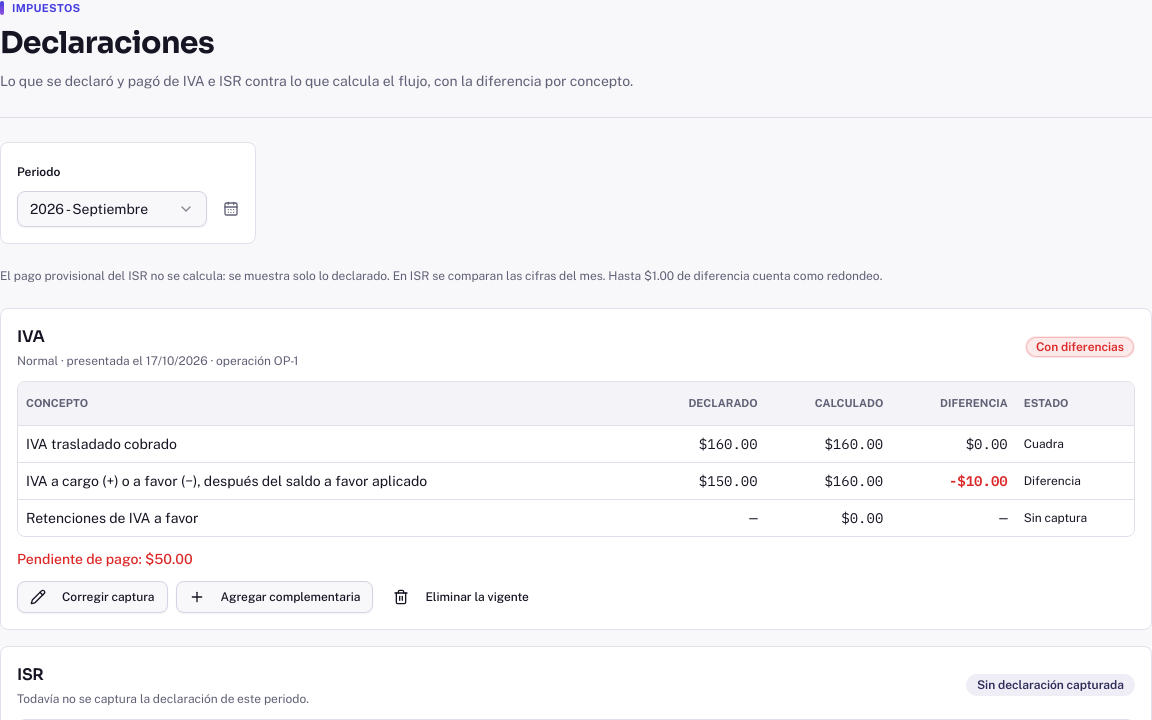
Scenario: DeclaracionesPantalla › bloquea importes inválidos y deja negativo solo el a cargo
The image size is (1152, 720).
Click the button "Corregir captura" at (92,597), box [17,581,168,613]
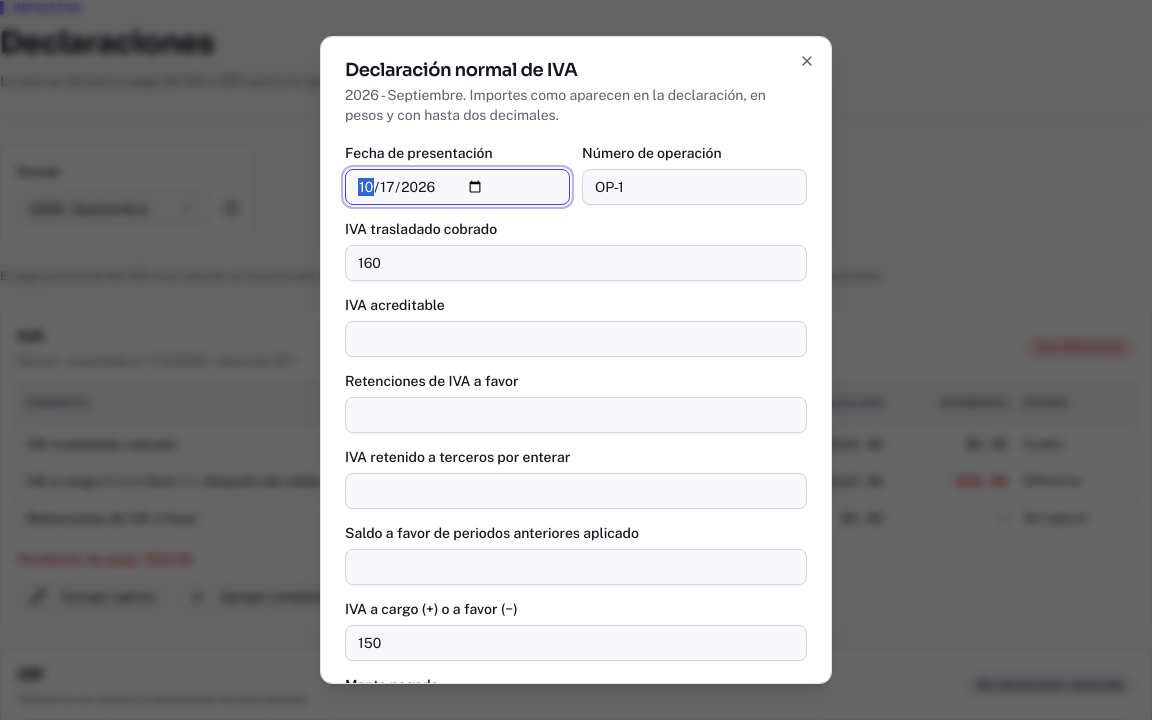
Type "-5" into the field labelled "IVA acreditable" at (576,339), box [345,321,807,357]
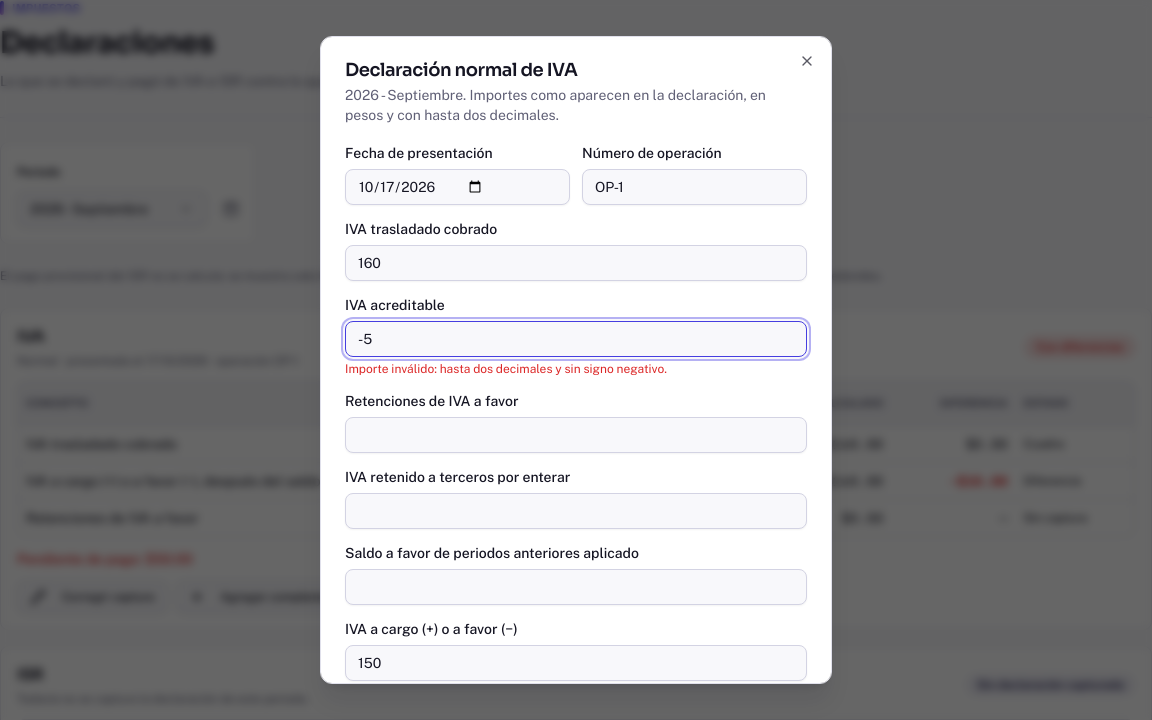
Replace the text in the field labelled "IVA acreditable" with "1.234" at (576,339), box [345,321,807,357]
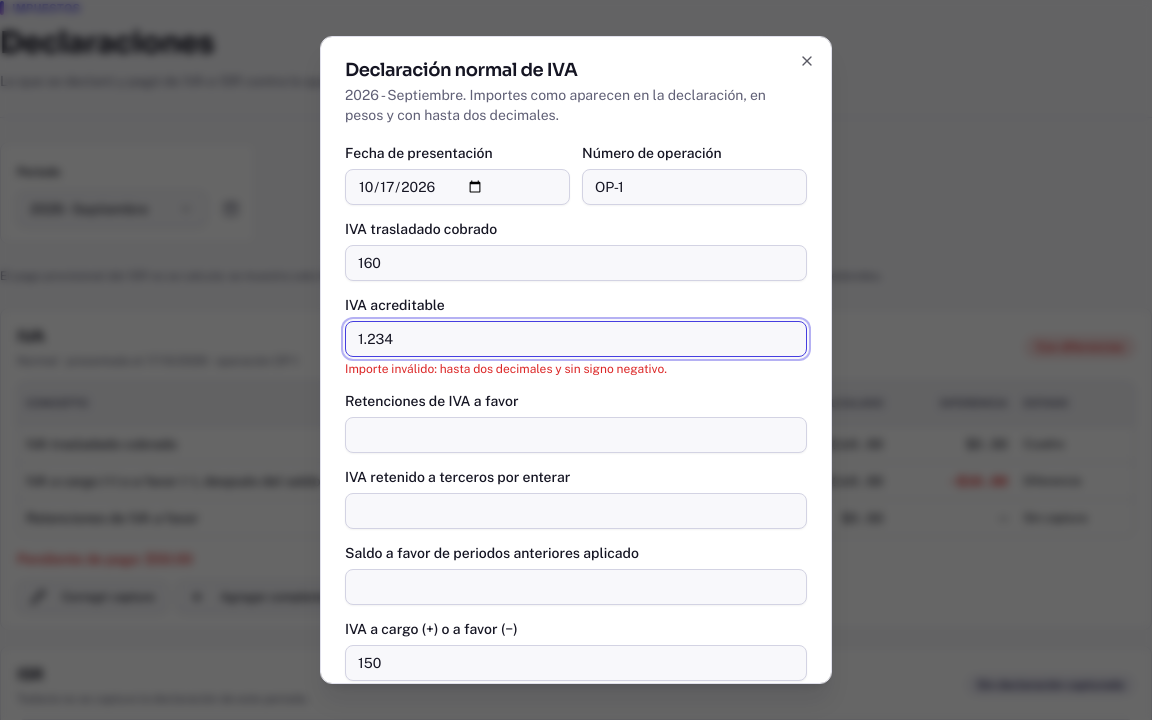
Clear the field labelled "IVA acreditable" at (576,339), box [345,321,807,357]
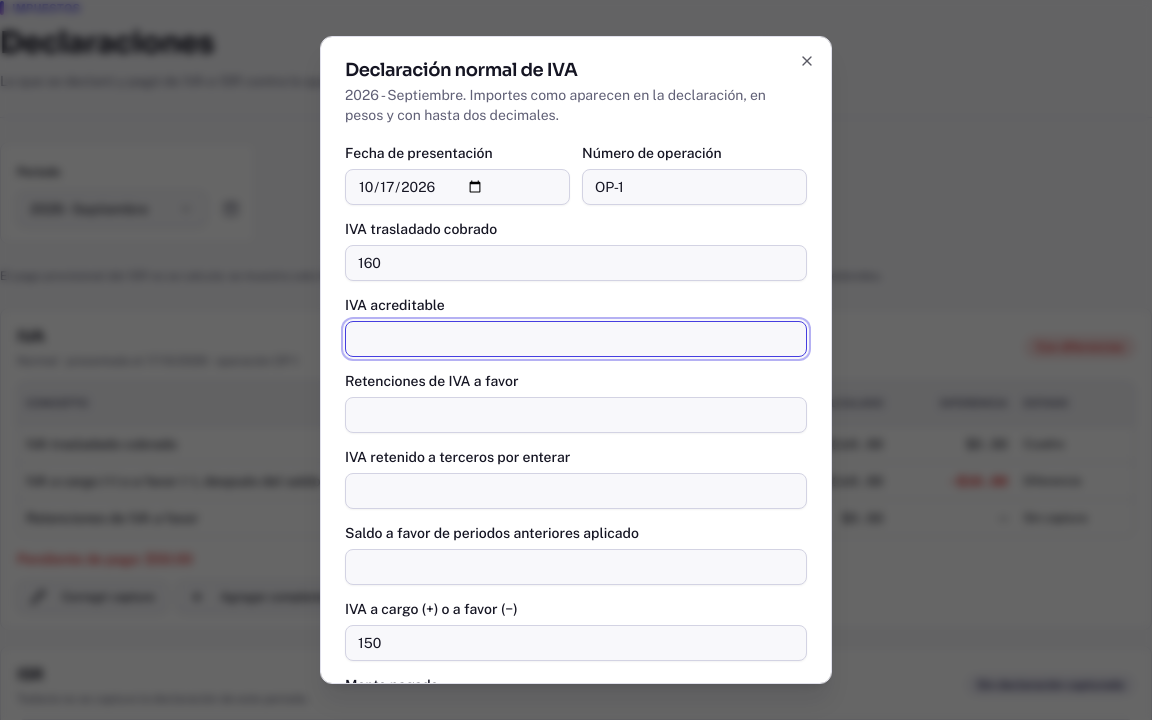
Replace the text in the field labelled "IVA a cargo (+) o a favor (−)" with "-50" at (576,643), box [345,625,807,661]
(page scrolled)
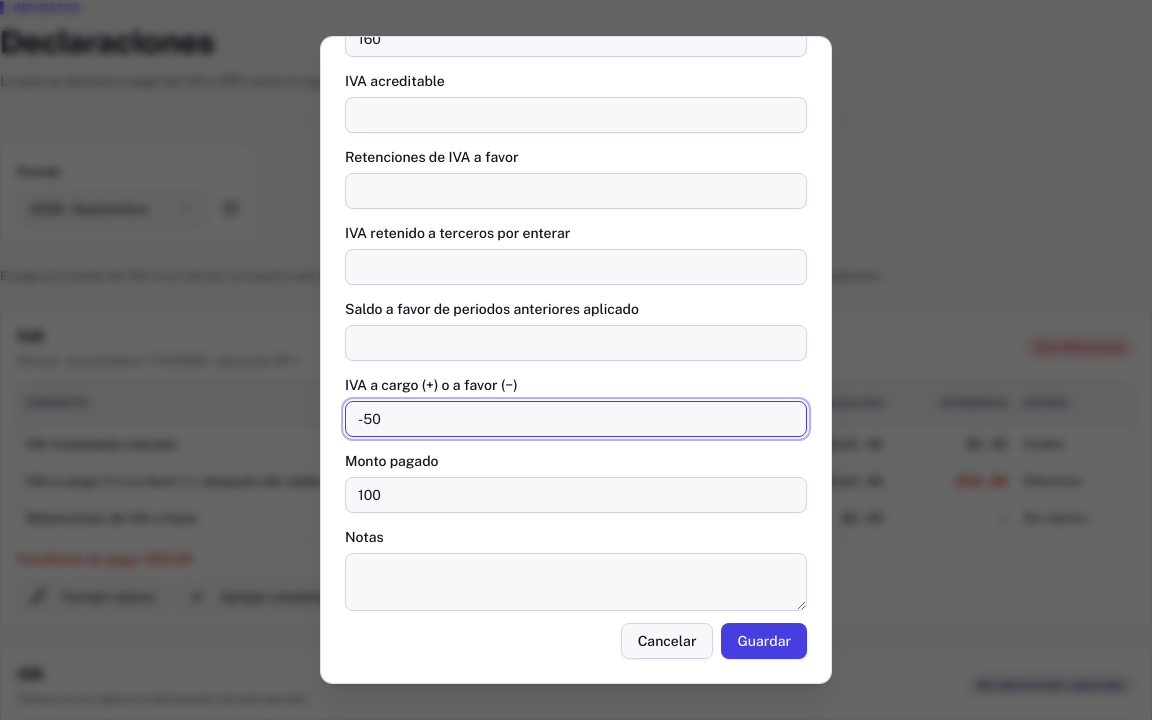
Check: the button "Guardar" is enabled, box [722,623,807,659]
